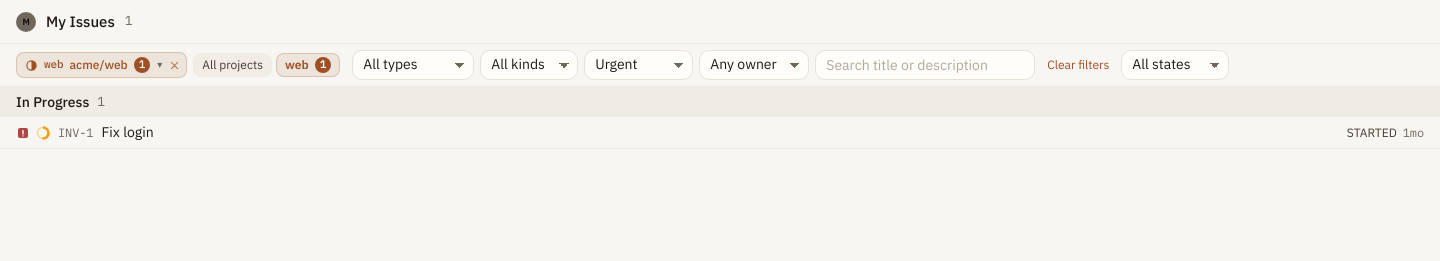
Test case: MyIssuesPage (INV-1314) › shows a no-match state and clears text, project, priority and workflow filters together (INV-2121)
The width and height of the screenshot is (1440, 261).
Select "In Progress" in the dropdown named "Filter by state" at [1175, 65], box top-left (1121, 50), bottom-right (1229, 80)
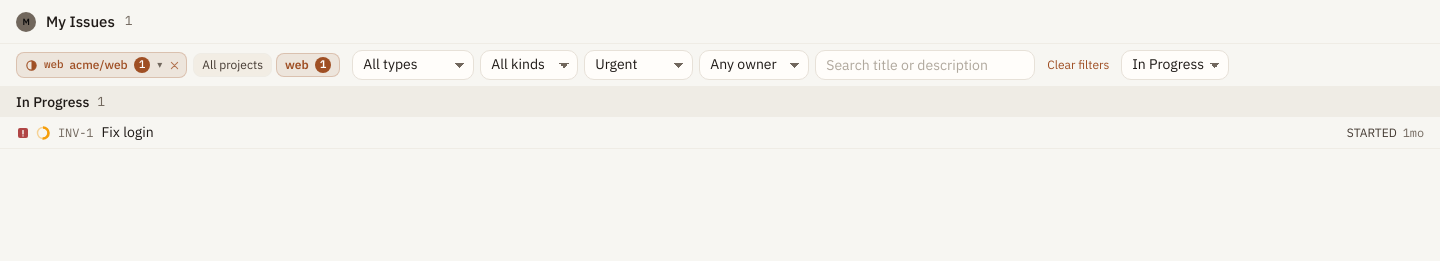
expect the link with aria-label "Open issue INV-1" is shown: met, box top-left (58, 123), bottom-right (154, 141)
Type "no-such-issue" into the search field named "Filter by text" at [925, 65], box top-left (815, 50), bottom-right (1035, 80)
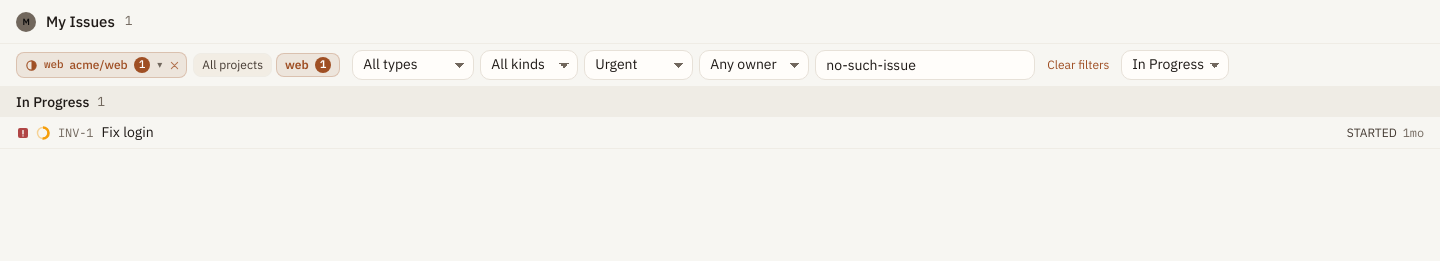
Press Enter in the search field named "Filter by text", box top-left (815, 50), bottom-right (1035, 80)
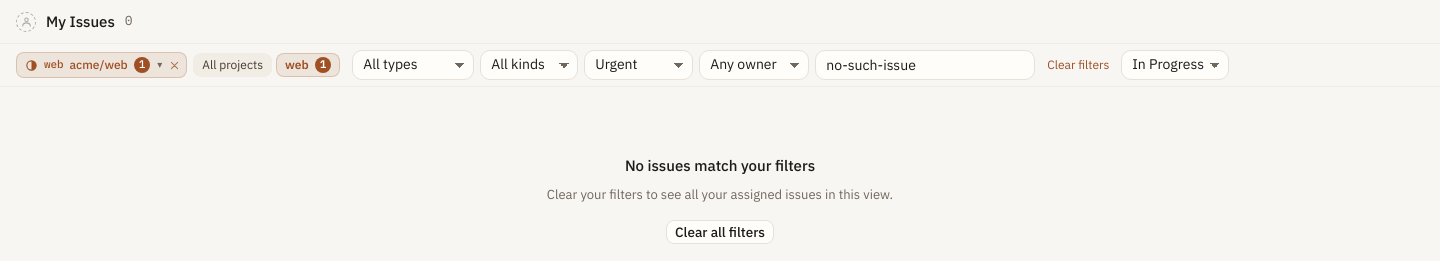
expect the heading "No issues match your filters" is shown: met, box top-left (625, 155), bottom-right (815, 177)
Click the button "Clear all filters" at [720, 232], box top-left (666, 220), bottom-right (774, 244)
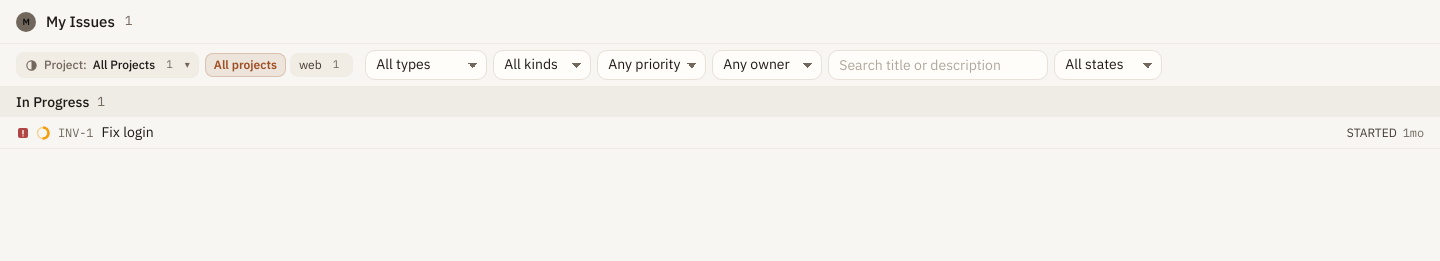
expect the link with aria-label "Open issue INV-1" is shown: met, box top-left (58, 123), bottom-right (154, 141)
expect the search field named "Filter by text" is empty: met, box top-left (828, 50), bottom-right (1048, 80)
expect the dropdown named "Filter by priority" shows "Any priority": met, box top-left (597, 50), bottom-right (706, 80)
